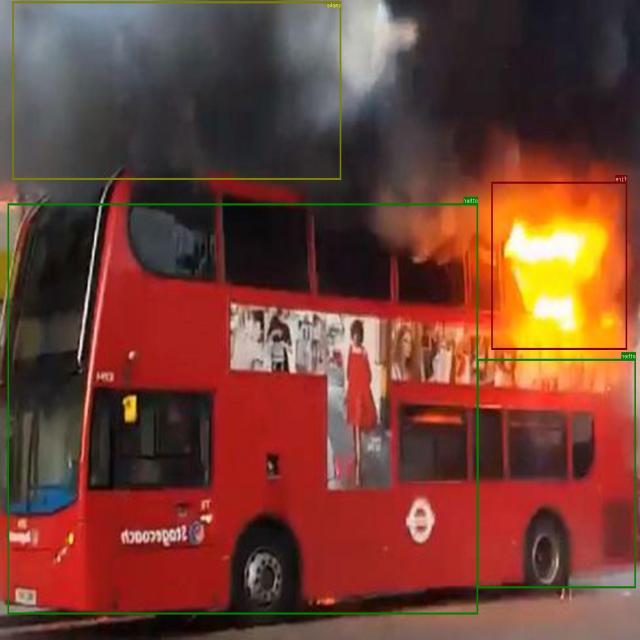fire: (492, 182, 627, 350)
other: (8, 203, 478, 614), (478, 358, 636, 588)
smoke: (13, 1, 341, 179)
